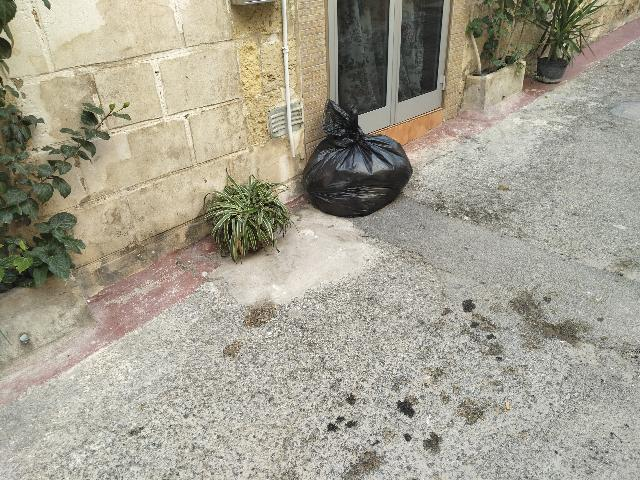Mixed -Black-: (303, 100, 412, 217)
